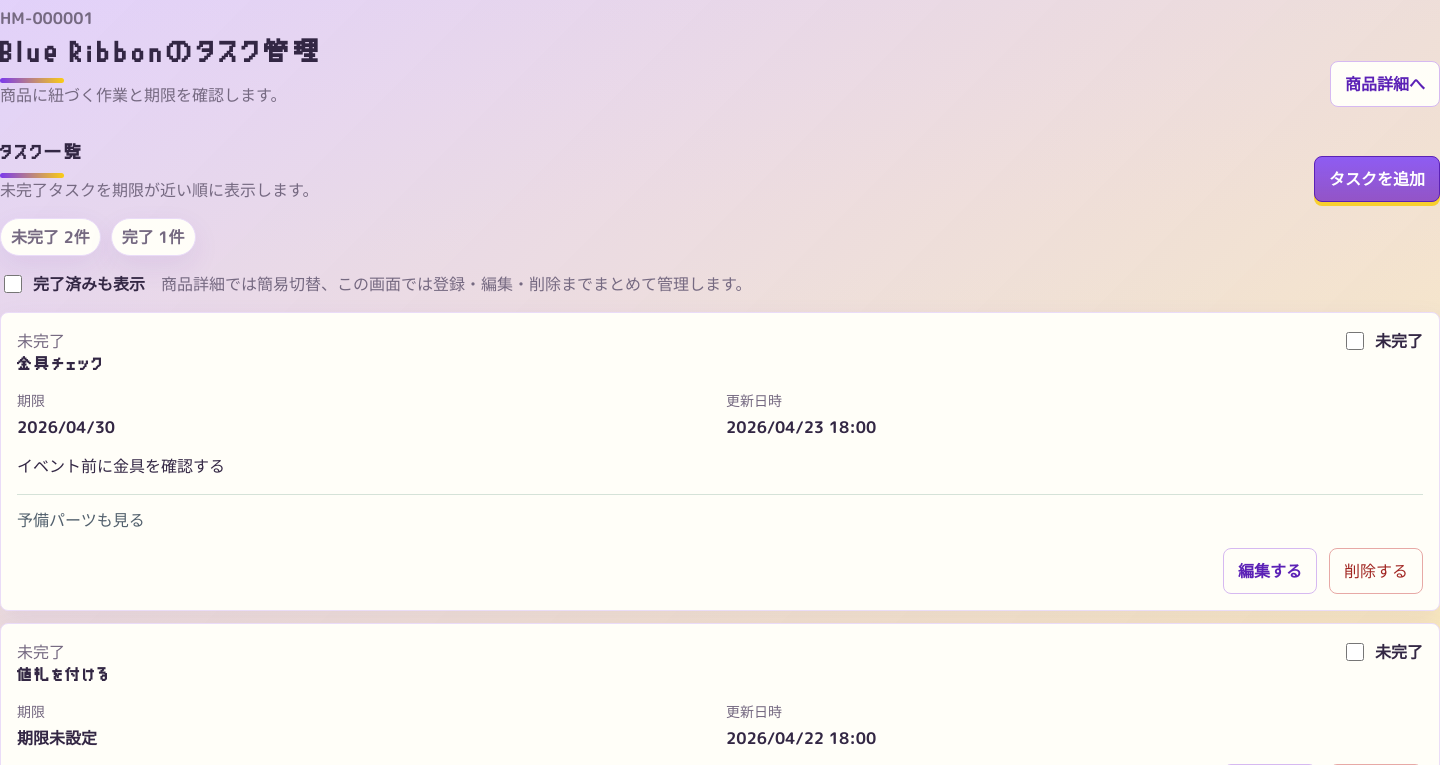
it: ProductTaskManagementPage › can return a completed task to open when completed tasks are visible
The width and height of the screenshot is (1440, 765).
Step 1. Click the checkbox labelled "完了済みも表示" → (13, 284), box x1=4 y1=275 x2=22 y2=293
(page scrolled)
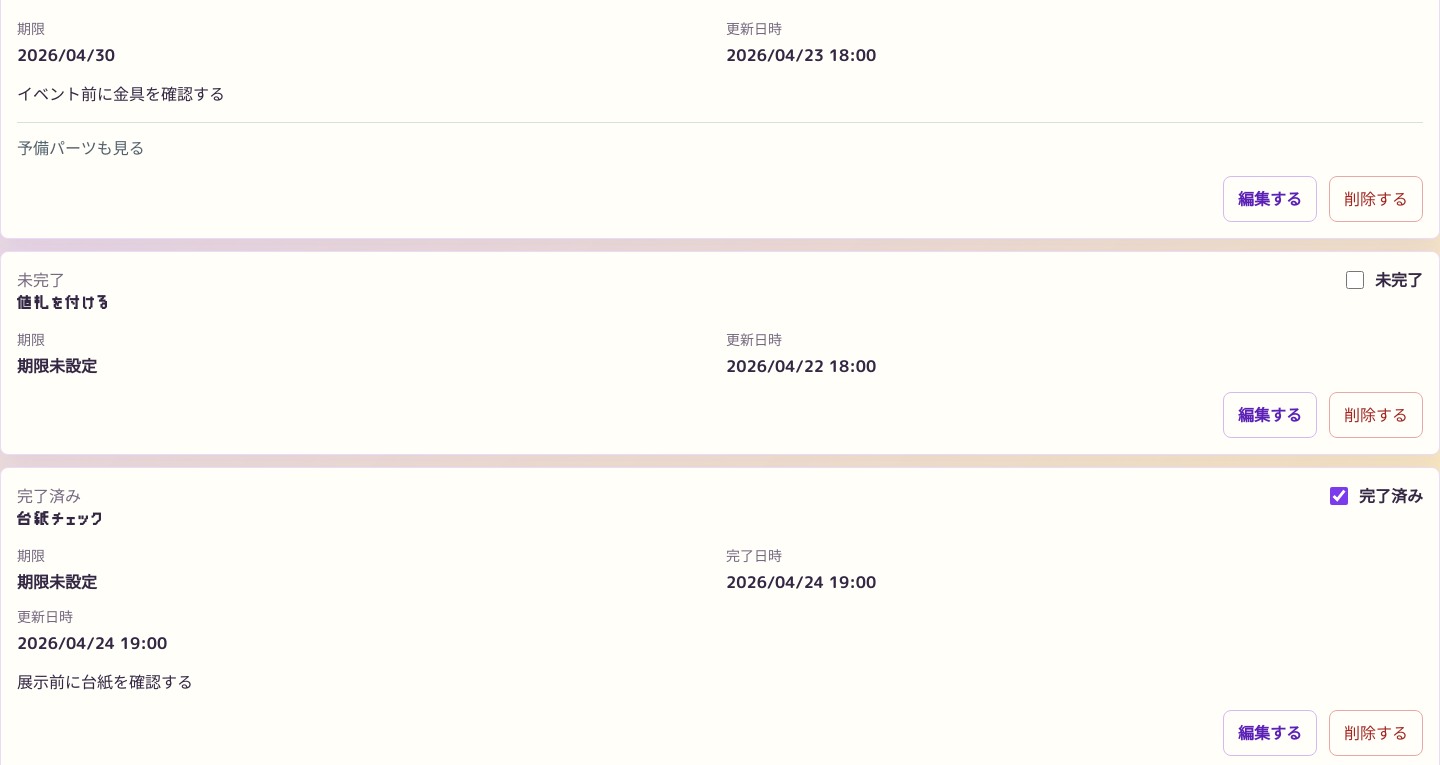
Expected: the heading "台紙チェック" is shown, x1=17 y1=508 x2=105 y2=531
Step 2. Click the checkbox named "台紙チェックを未完了に戻す" → (1339, 496), box x1=1330 y1=487 x2=1348 y2=505
(page scrolled)
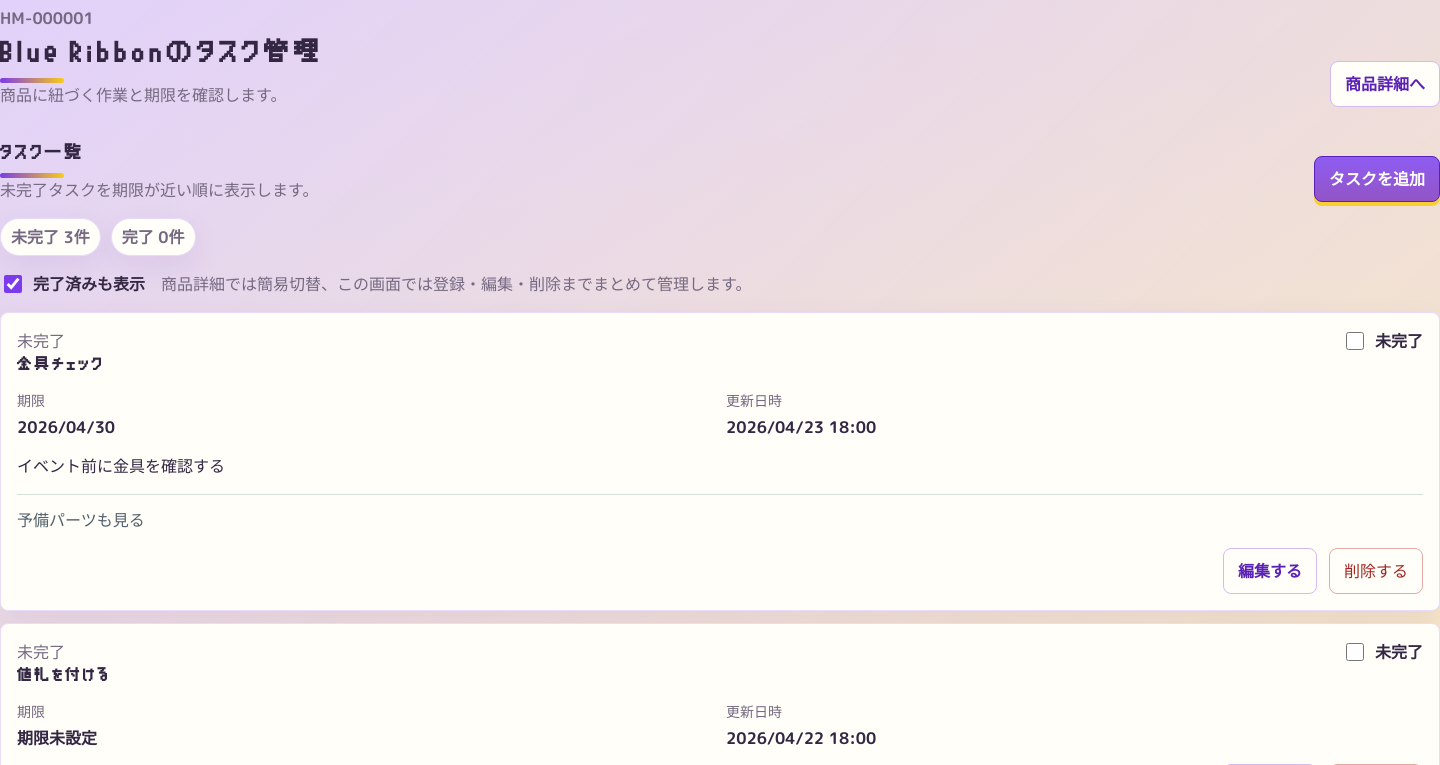
Expected: the text "未完了 3件" is shown, x1=0 y1=218 x2=101 y2=256
Expected: the text "完了 0件" is shown, x1=111 y1=218 x2=196 y2=256
